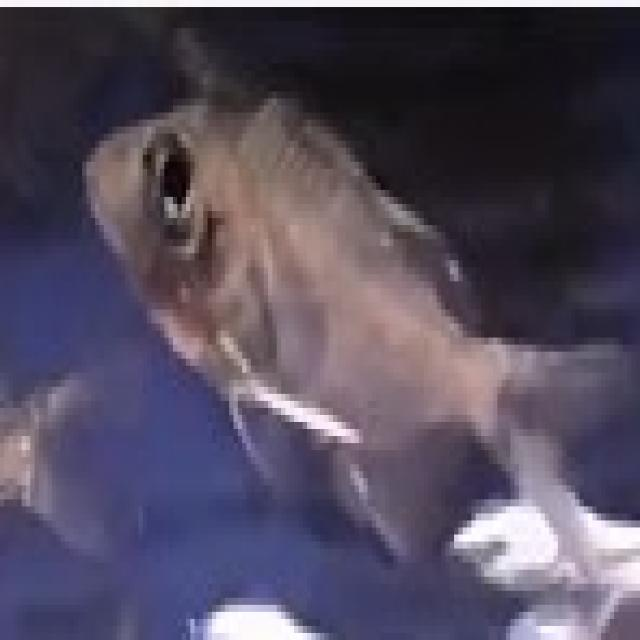Glass-Perchlet: (56, 42, 640, 619)
